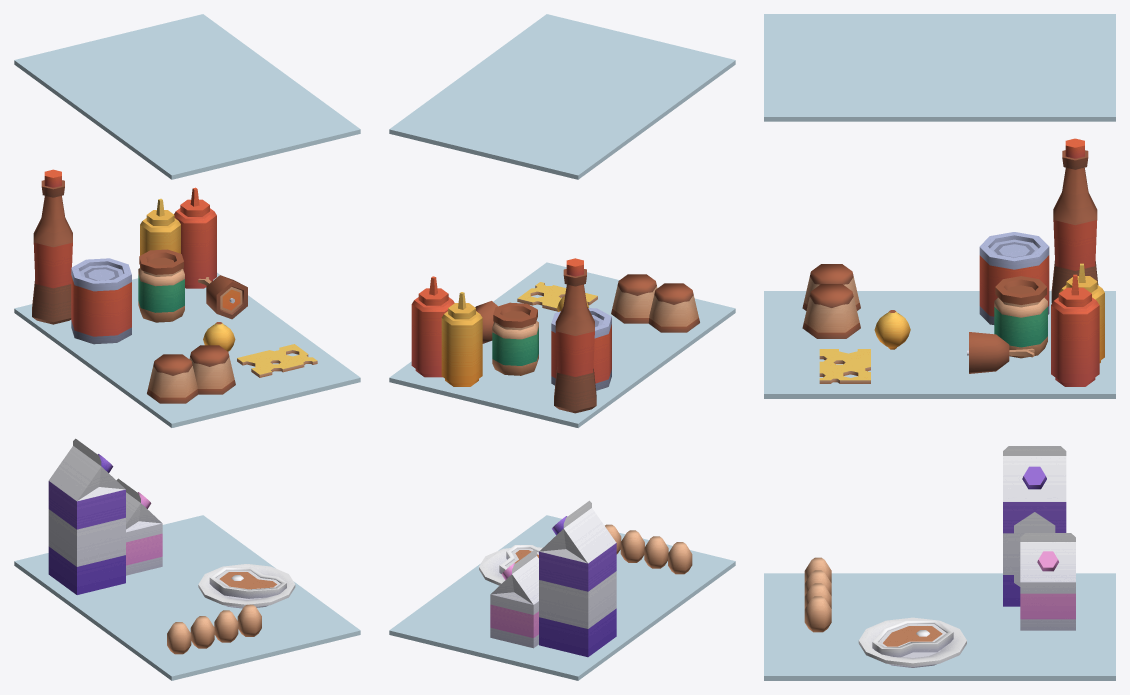
The model's file is Kitchen_FridgeStock.glb.
The picture shows the model from 3 angles, left to right: view 1: azimuth 30°, elevation 25°; view 2: azimuth 150°, elevation 25°; view 3: azimuth 270°, elevation 25°; orthographic projection. The views are drawn at different scales.
Visible parts, largest first — view 1: Kitchen_FridgeStock; view 2: Kitchen_FridgeStock; view 3: Kitchen_FridgeStock.
Boxes of the visible parts, x1,y1,x2,y2 form: Kitchen_FridgeStock: (14, 14, 360, 680); Kitchen_FridgeStock: (389, 14, 735, 680); Kitchen_FridgeStock: (764, 14, 1115, 680).
Bounding box in the file's own units: 0.3604 × 0.92 × 0.52.
Materials: 19 (18 with a texture image).
